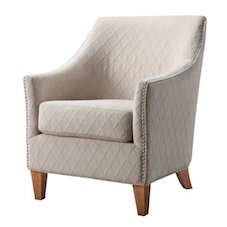chair: (12, 7, 208, 226)
